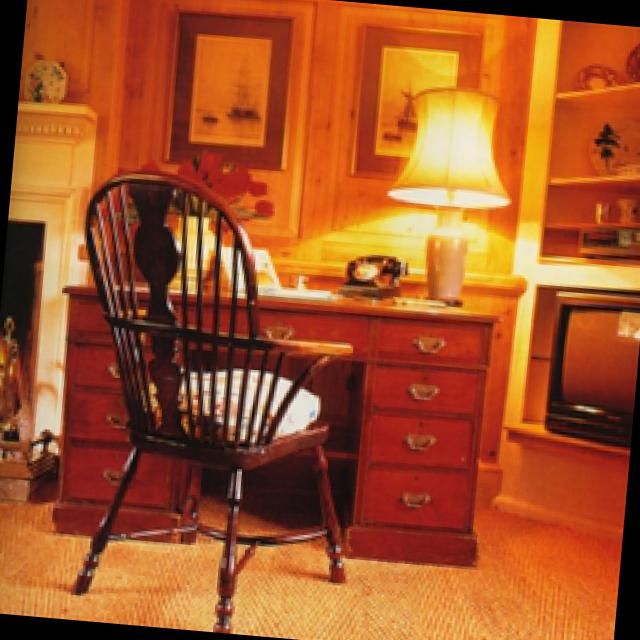VCR: (579, 224, 640, 258)
bookshelves: (495, 18, 640, 542)
bouquet: (140, 144, 279, 287)
chair -occluded-: (76, 167, 353, 626)
decorative plate: (588, 113, 640, 172), (25, 57, 70, 100), (576, 61, 625, 86), (630, 44, 640, 79)
desk calendar: (58, 276, 499, 560)
fireplace mantle: (0, 98, 100, 495)
lamp crop: (392, 85, 511, 301)
painting crop: (166, 4, 297, 167), (353, 20, 484, 176)
phone charger: (343, 251, 410, 295)
pillow occluded: (143, 367, 325, 437)
shelves crop: (541, 20, 640, 263)
television cabinet: (546, 291, 640, 445)
vase -X: (620, 193, 640, 217), (598, 199, 617, 218)
